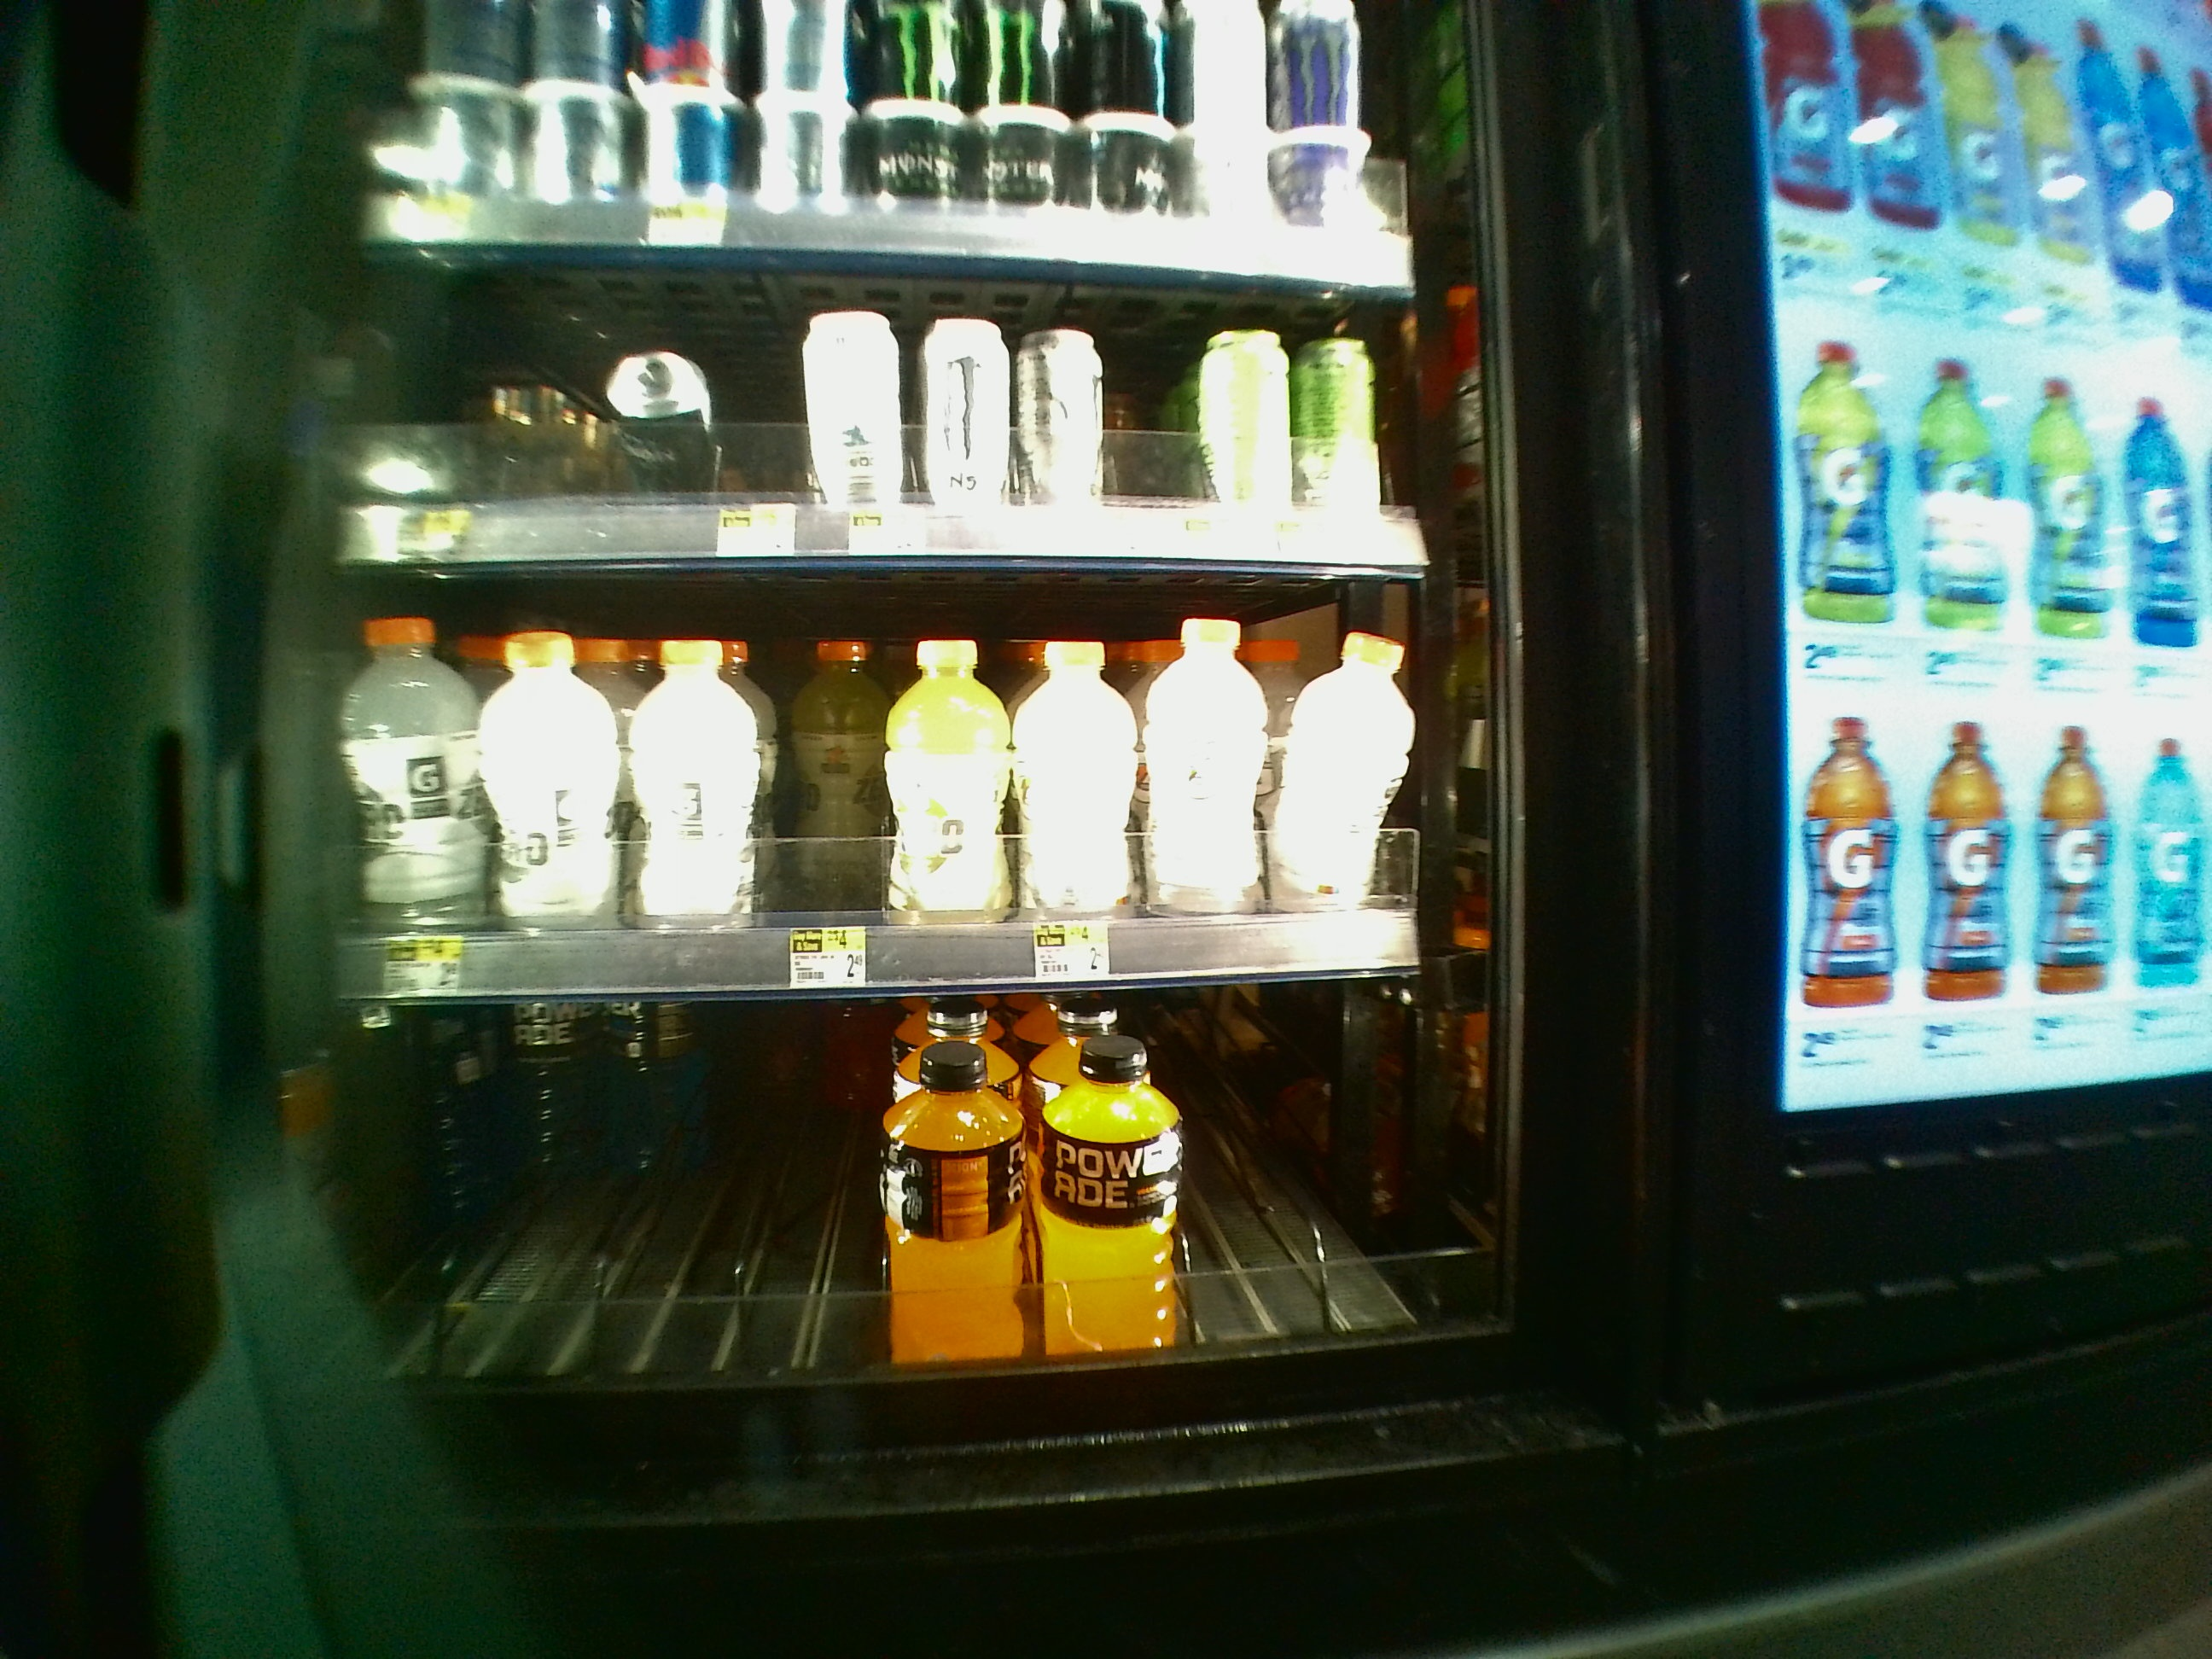shelf: (305, 568, 1496, 995), (310, 249, 1505, 579)
